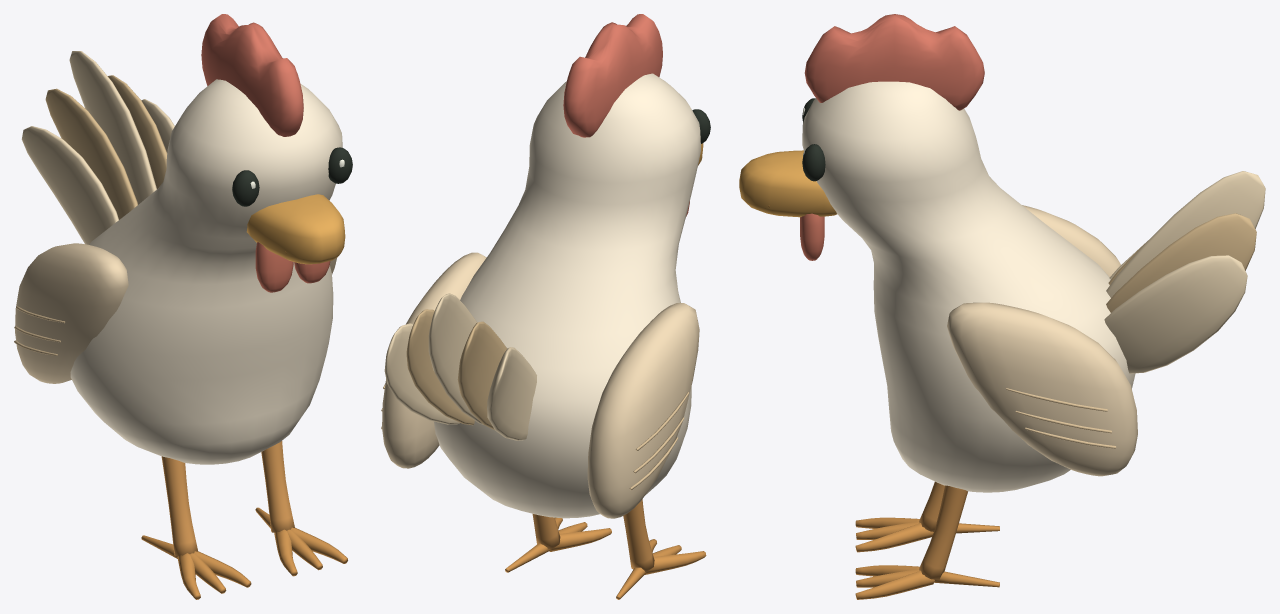
File: chicken.glb
3 views of the same model, side by side, from view 1: azimuth 30°, elevation 25°; view 2: azimuth 150°, elevation 25°; view 3: azimuth 270°, elevation 25° (orthographic). The views are drawn at different scales.
Parts seen in each view (by area): view 1: continuous-body-neck, sculpted-wing--1, scalloped-comb, tail-feather-0, upper-beak, tail-feather-2, tail-feather-1, ankle--1, tail-feather-3, ankle-1, wattle--1, eye--1 (+9 smaller); view 2: continuous-body-neck, sculpted-wing--1, scalloped-comb, sculpted-wing-1, tail-feather-0, tail-feather-2, tail-feather-1, tail-feather-3, tail-feather-4, ankle--1, ankle-1, foot-toe--1--1 (+1 smaller); view 3: continuous-body-neck, sculpted-wing-1, scalloped-comb, tail-feather-4, tail-feather-2, tail-feather-3, upper-beak, ankle-1, sculpted-wing--1, foot-toe-1-1, foot-toe--1-1, wattle-1 (+2 smaller).
Boxes of the visible parts, x1,y1,x2,y2 form: continuous-body-neck: [70, 79, 342, 464]; sculpted-wing--1: [15, 243, 128, 383]; scalloped-comb: [201, 14, 303, 136]; tail-feather-0: [21, 126, 118, 244]; upper-beak: [246, 194, 345, 264]; tail-feather-2: [69, 51, 156, 204]; tail-feather-1: [45, 88, 137, 219]; ankle--1: [161, 456, 198, 556]; tail-feather-3: [108, 75, 167, 188]; ankle-1: [261, 441, 294, 532]; wattle--1: [255, 242, 293, 292]; eye--1: [232, 170, 259, 206]; continuous-body-neck: [434, 73, 700, 518]; sculpted-wing--1: [587, 303, 699, 518]; scalloped-comb: [563, 14, 662, 137]; sculpted-wing-1: [382, 252, 486, 468]; tail-feather-0: [487, 347, 536, 440]; tail-feather-2: [428, 293, 483, 424]; tail-feather-1: [457, 321, 507, 430]; tail-feather-3: [406, 309, 474, 425]; tail-feather-4: [384, 323, 459, 424]; ankle--1: [623, 499, 654, 571]; ankle-1: [532, 514, 560, 549]; foot-toe--1--1: [645, 551, 706, 574]; continuous-body-neck: [802, 81, 1135, 492]; sculpted-wing-1: [947, 302, 1137, 476]; scalloped-comb: [804, 14, 984, 110]; tail-feather-4: [1104, 255, 1247, 373]; tail-feather-2: [1106, 171, 1265, 297]; tail-feather-3: [1106, 213, 1256, 312]; upper-beak: [739, 150, 836, 217]; ankle-1: [919, 485, 967, 579]; sculpted-wing--1: [1022, 205, 1120, 276]; foot-toe-1-1: [855, 570, 934, 599]; foot-toe--1-1: [855, 523, 933, 552]; wattle-1: [800, 213, 824, 260].
Size of the model in its own units: 0.5076 by 0.9675 by 0.8432.
